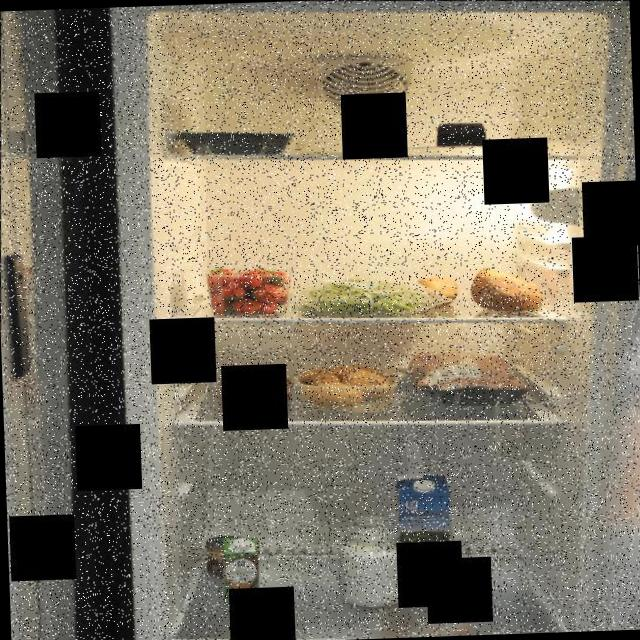Carne pollo: (396, 344, 536, 410)
Gambas/Langostinos: (215, 372, 293, 406)
Leche: (388, 469, 458, 576)
Patata: (294, 358, 399, 412)
Queso: (434, 116, 491, 153)
corn: (203, 532, 253, 580)
green_beans: (286, 270, 455, 322)
heavy_cream: (219, 534, 261, 606)
strawberries: (202, 262, 294, 318)
sugar: (334, 511, 412, 611)
sweet_potato: (468, 261, 548, 318), (416, 269, 459, 301)
